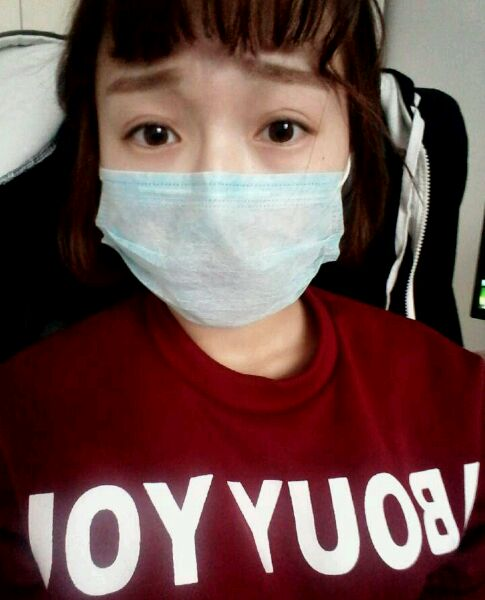face_mask: (99, 1, 344, 326)
